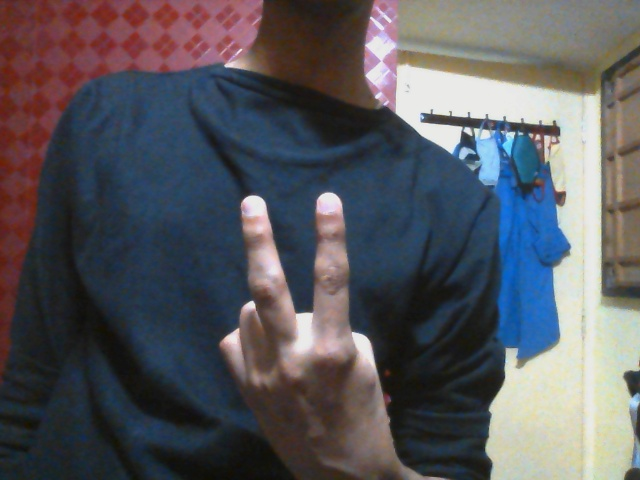V: (216, 192, 394, 473)
